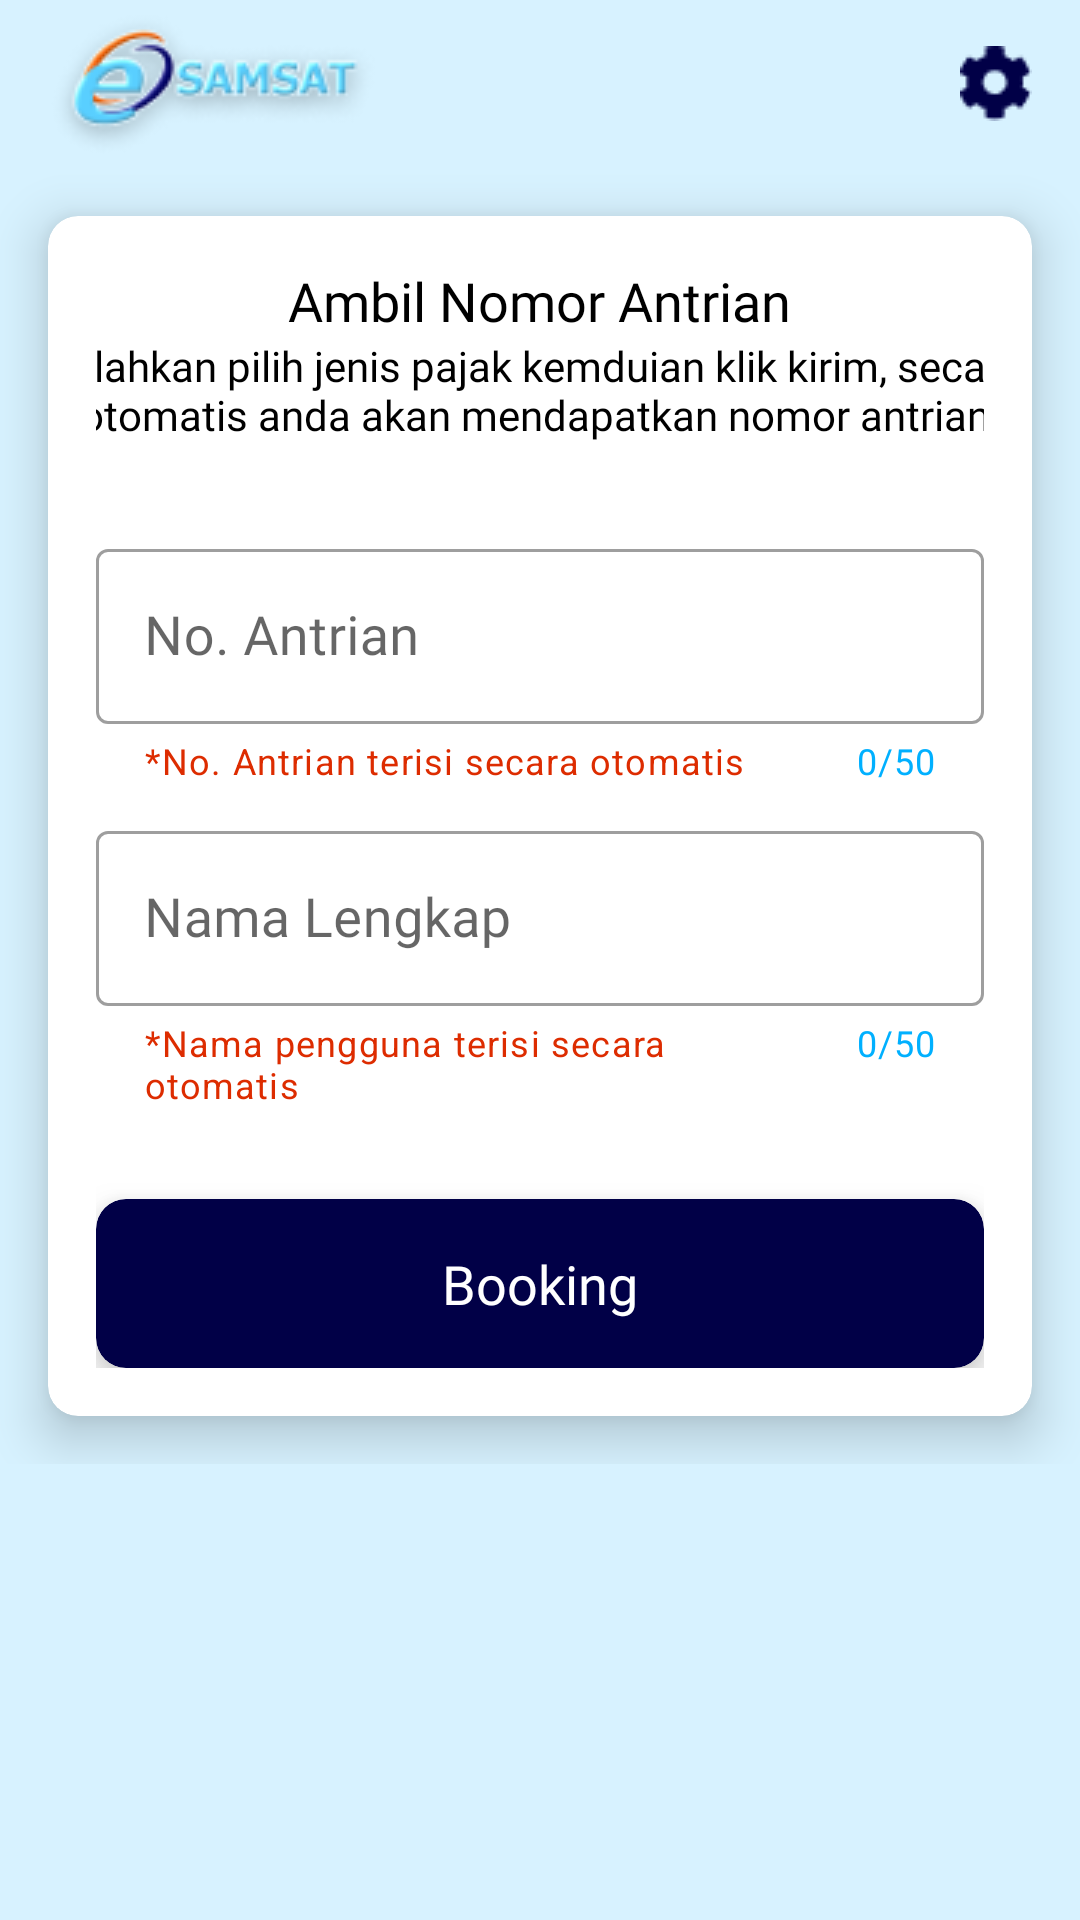

Where icons sit on this 1080*1920 app screen, as [x1, y1, x2, y2]:
setting: [960, 46, 1032, 121]
